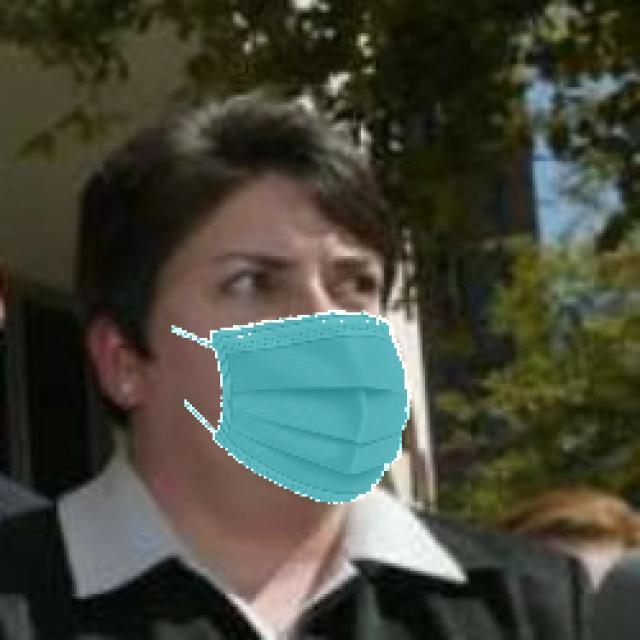mask: (166, 286, 422, 517)
